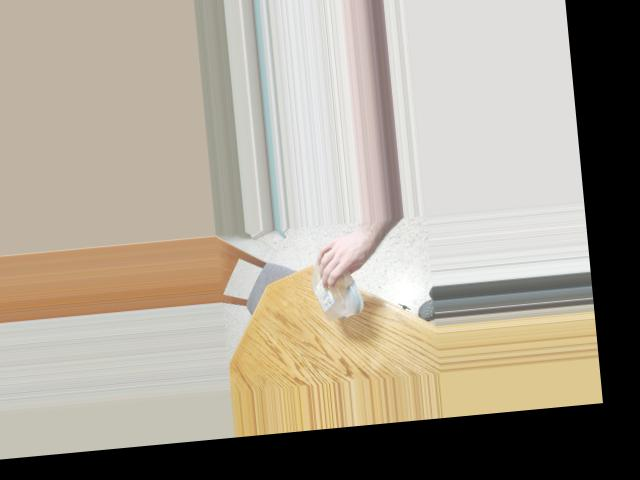cheese: (308, 258, 361, 317)
